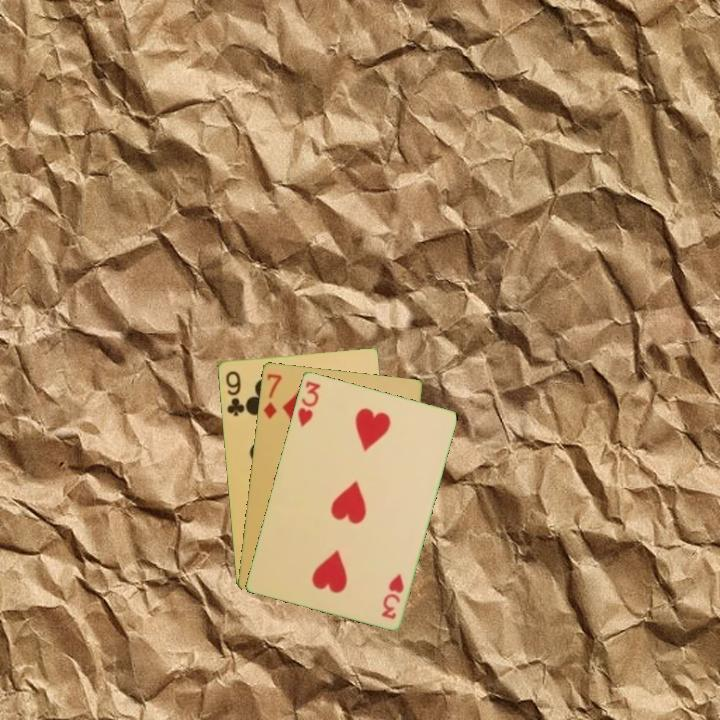3h: (377, 570, 407, 622), (294, 377, 323, 430)
7d: (260, 370, 284, 421)
9c: (222, 367, 246, 419)
